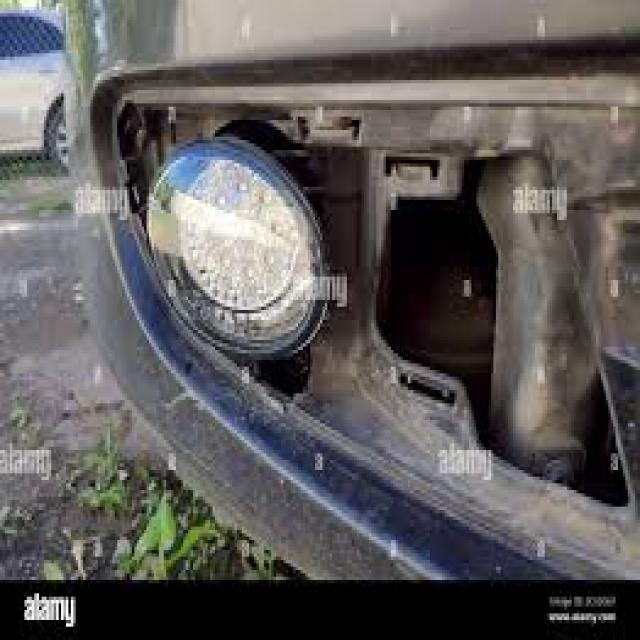damaged-head-light: (123, 100, 626, 500)
